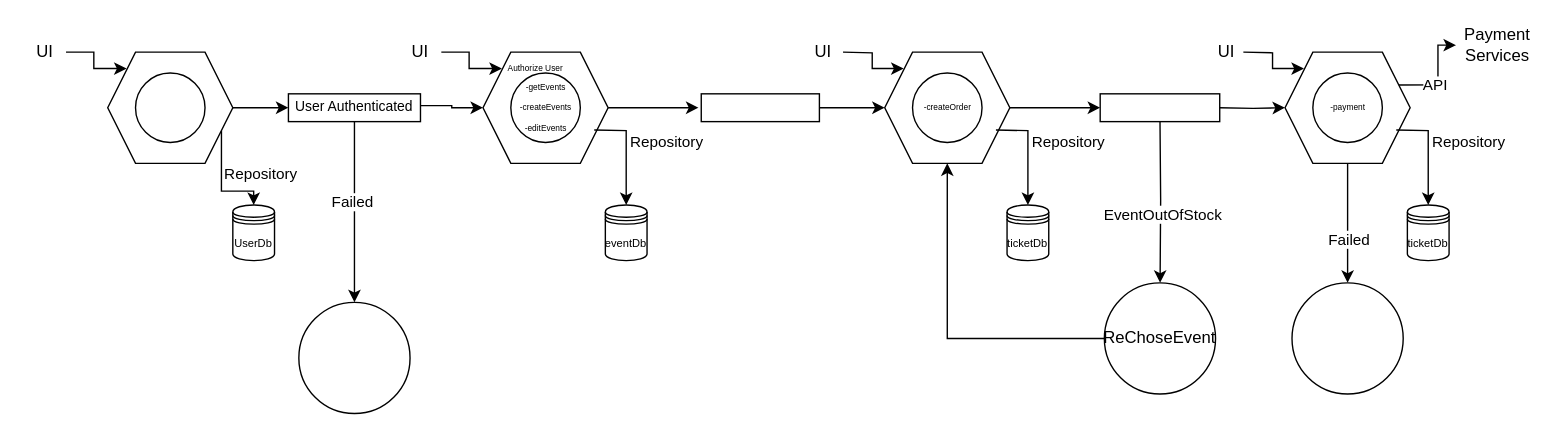
This 1562x438 diagram has some shape labels left out. The centre of each missing label's shape, as x and y in pixels:
"eventChosen" goes at (x=759, y=107).
"Order Created" goes at (x=1159, y=107).
"Re-register" goes at (x=353, y=357).
"Register and Login" goes at (x=169, y=107).
"Repeat" goes at (x=1347, y=337).
